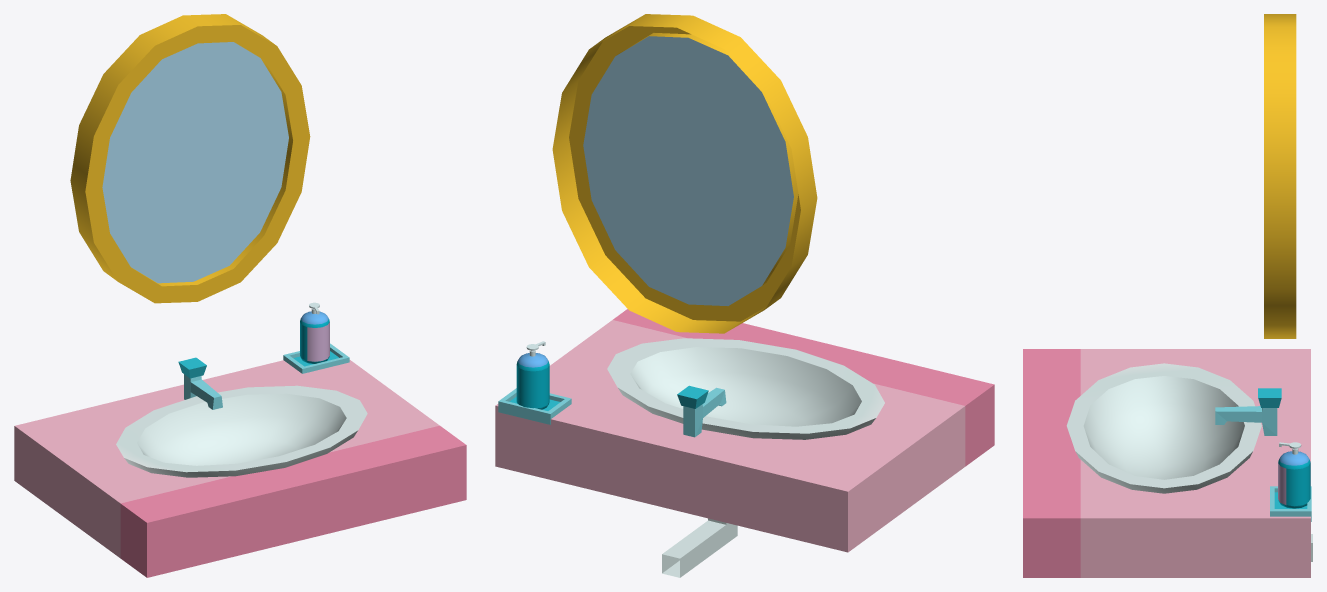
The model's file is MXC_Restroom_SinkFemale_lv1.fbx.
3 renders of one model, left to right at view 1: azimuth 30°, elevation 25°; view 2: azimuth 150°, elevation 25°; view 3: azimuth 270°, elevation 25°, orthographic. The views are drawn at different scales.
Visible parts, largest first — view 1: MXC_Restroom_SinkFemale_lv1; view 2: MXC_Restroom_SinkFemale_lv1; view 3: MXC_Restroom_SinkFemale_lv1.
Part boxes in pixels (x1=…): MXC_Restroom_SinkFemale_lv1: x1=14, y1=14, x2=466, y2=577; MXC_Restroom_SinkFemale_lv1: x1=495, y1=14, x2=994, y2=577; MXC_Restroom_SinkFemale_lv1: x1=1023, y1=14, x2=1312, y2=577.
Bounding box in the file's own units: 171 × 251 × 124.
